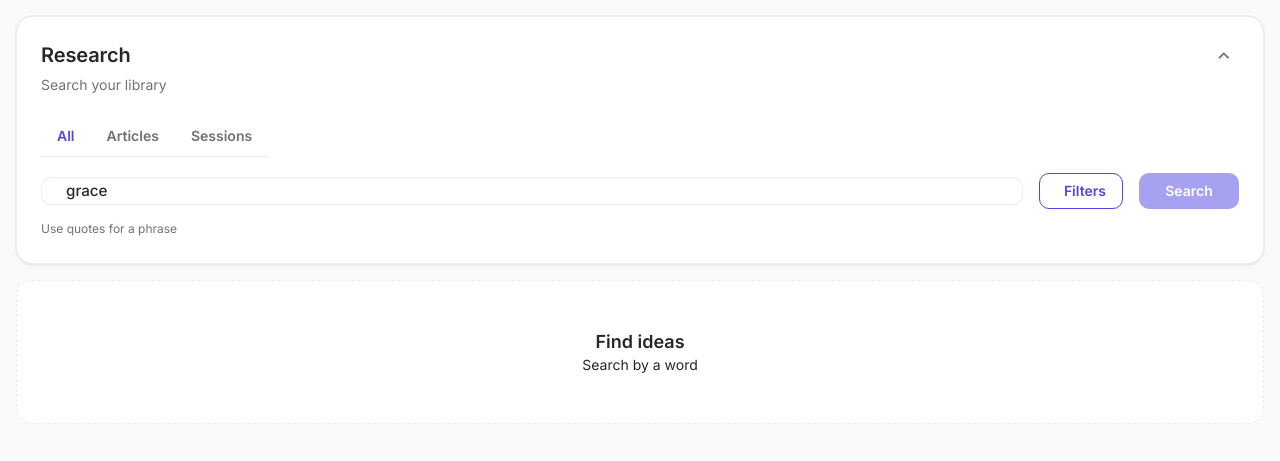
Test: Research View › search progress and errors › recovers when search throws
Click the button "Search": (1189, 191) [1139,173,1239,209]
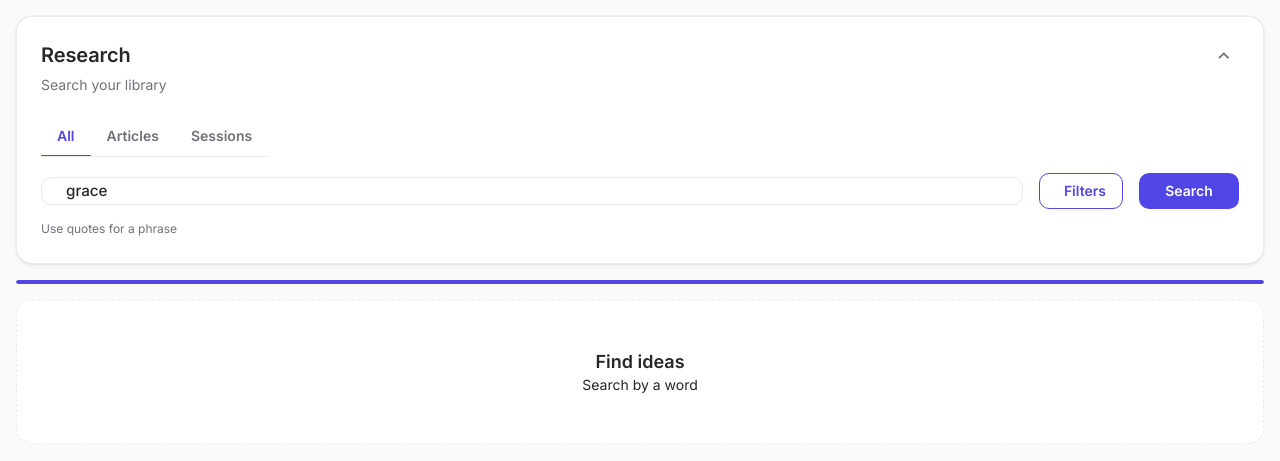
Expected: the button "Search" is enabled, [1139,173,1239,209]
